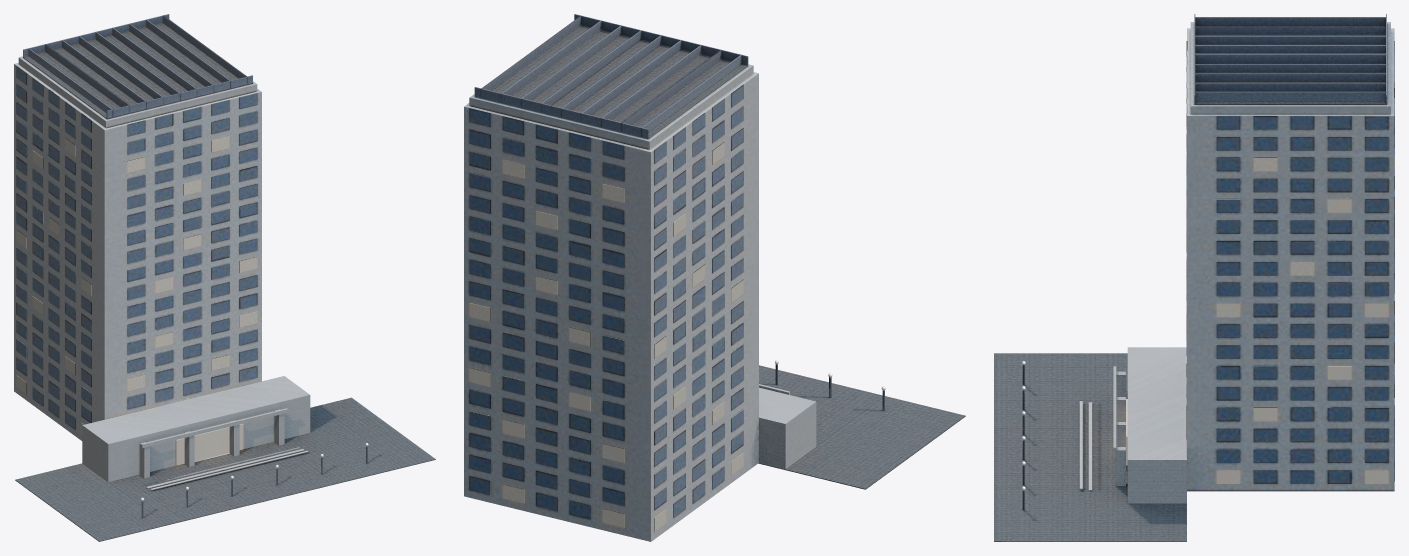
File: victoria_apartment.glb
3 renders of one model, left to right at view 1: azimuth 30°, elevation 25°; view 2: azimuth 150°, elevation 25°; view 3: azimuth 270°, elevation 25°, orthographic. The views are drawn at different scales.
Visible parts, largest first — view 1: walls_tower, site_ground, props_podium, props_terrace; view 2: walls_tower, props_terrace, site_ground, props_podium; view 3: walls_tower, site_ground, props_terrace, props_podium.
Boxes of the visible parts, x1,y1,x2,y2 form: walls_tower: (14,56,261,440); site_ground: (15,397,435,541); props_podium: (82,376,310,482); props_terrace: (23,14,252,119); walls_tower: (464,64,758,541); props_terrace: (474,14,748,139); site_ground: (758,365,965,489); props_podium: (759,384,816,469); walls_tower: (1186,22,1394,491); site_ground: (994,353,1186,541); props_terrace: (1194,14,1386,104); props_podium: (1113,347,1186,503).
Bounding box in the file's own units: 60 × 58.5 × 54.05.
5 materials, 5 textured.
